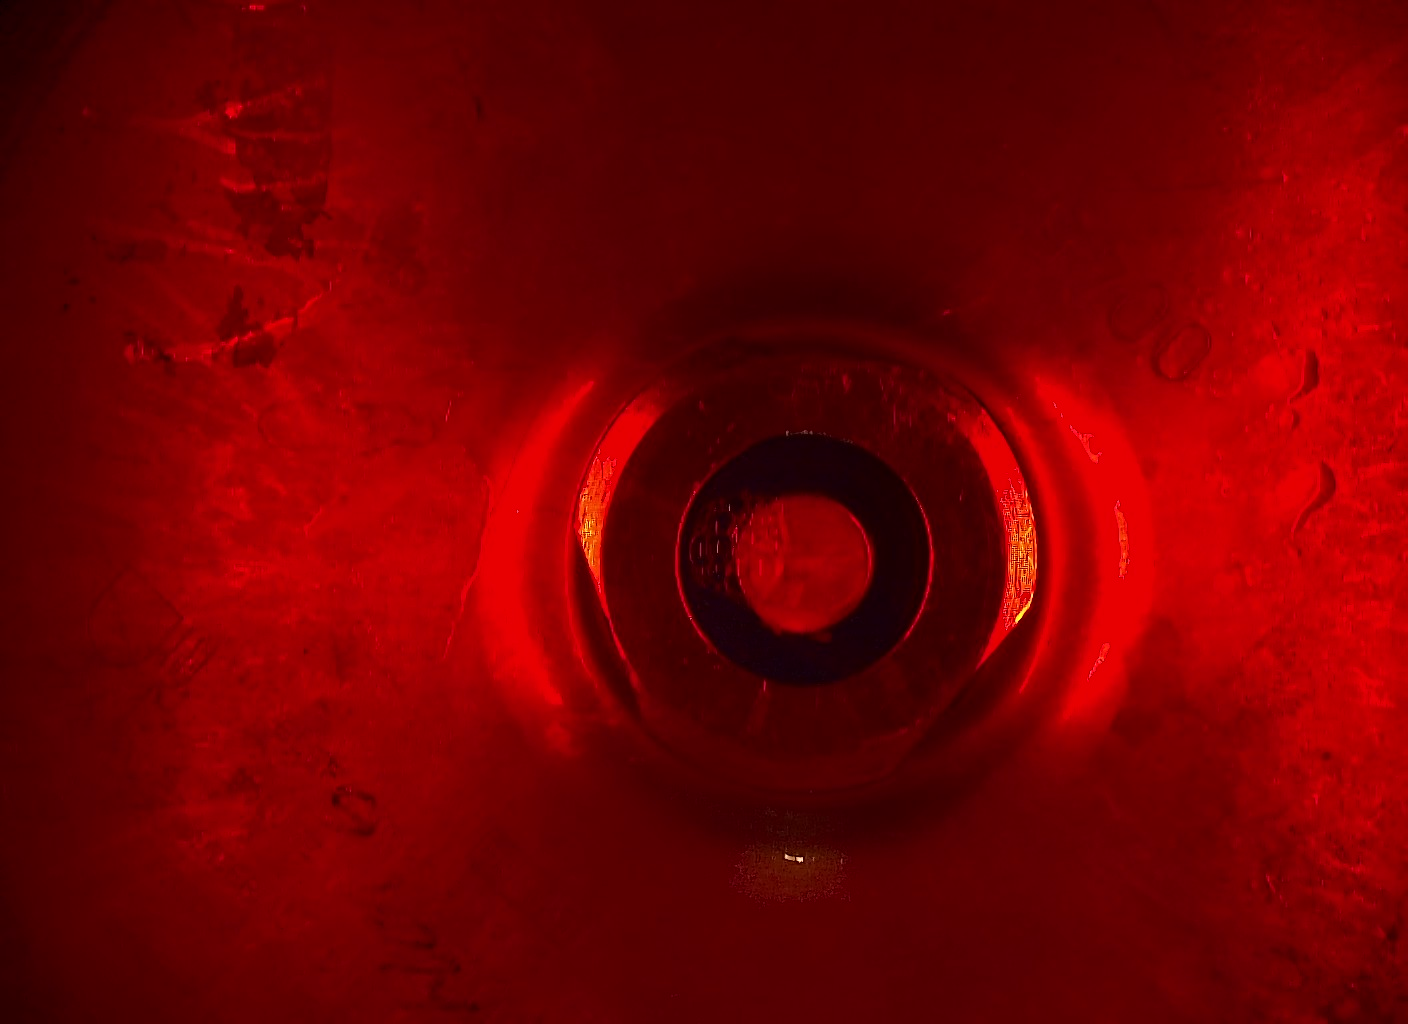pena: (676, 484, 798, 615)
